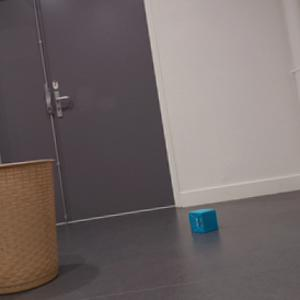medium: (1, 158, 55, 293)
small: (188, 207, 218, 234)
